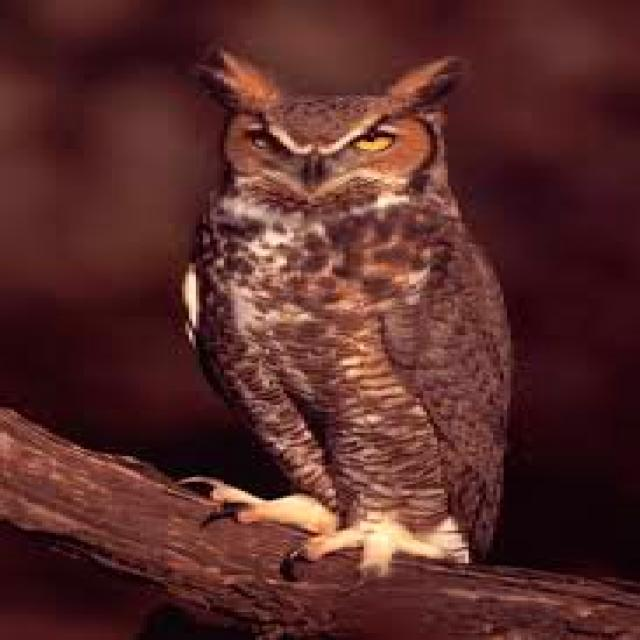owl: (189, 51, 511, 575)
